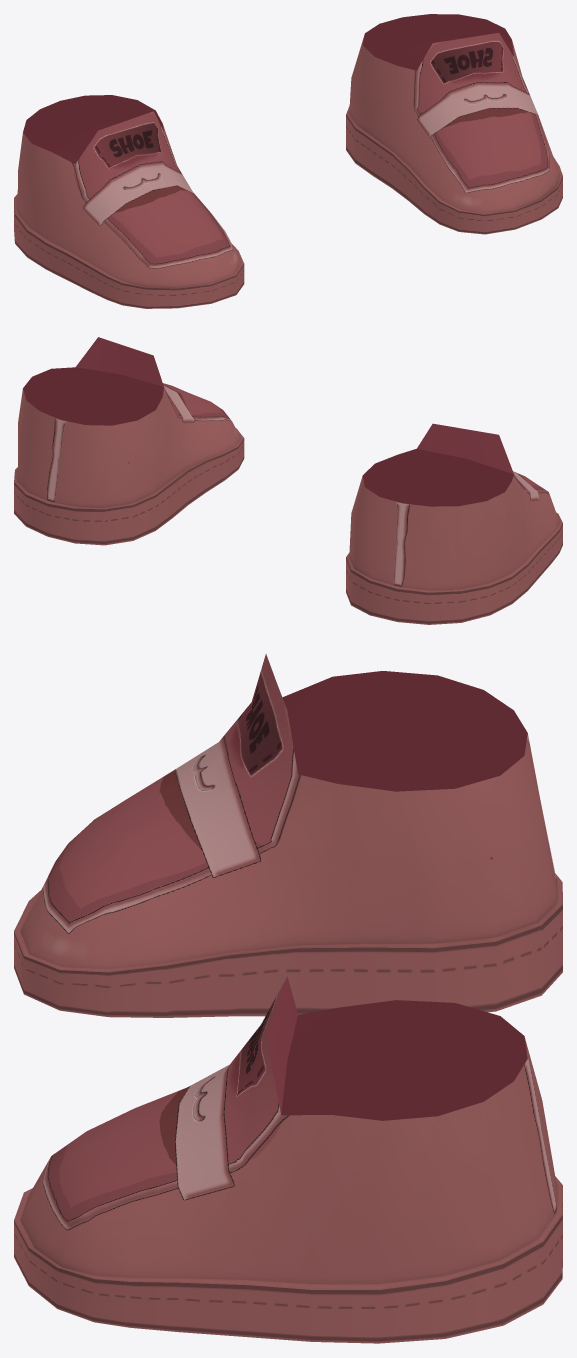
Rendered from shoe.glb.
3 renders of one model, top to bottom at view 1: azimuth 30°, elevation 25°; view 2: azimuth 150°, elevation 25°; view 3: azimuth 270°, elevation 25°, orthographic. The views are drawn at different scales.
Parts seen in each view (by area): view 1: shoe; view 2: shoe; view 3: shoe.
Boxes of the visible parts, x1,y1,x2,y2 form: shoe: (14, 14, 562, 308); shoe: (14, 337, 562, 624); shoe: (14, 654, 562, 1343).
Bounding box in the file's own units: 0.3872 × 0.1054 × 0.1946.
1 material, 1 textured.
